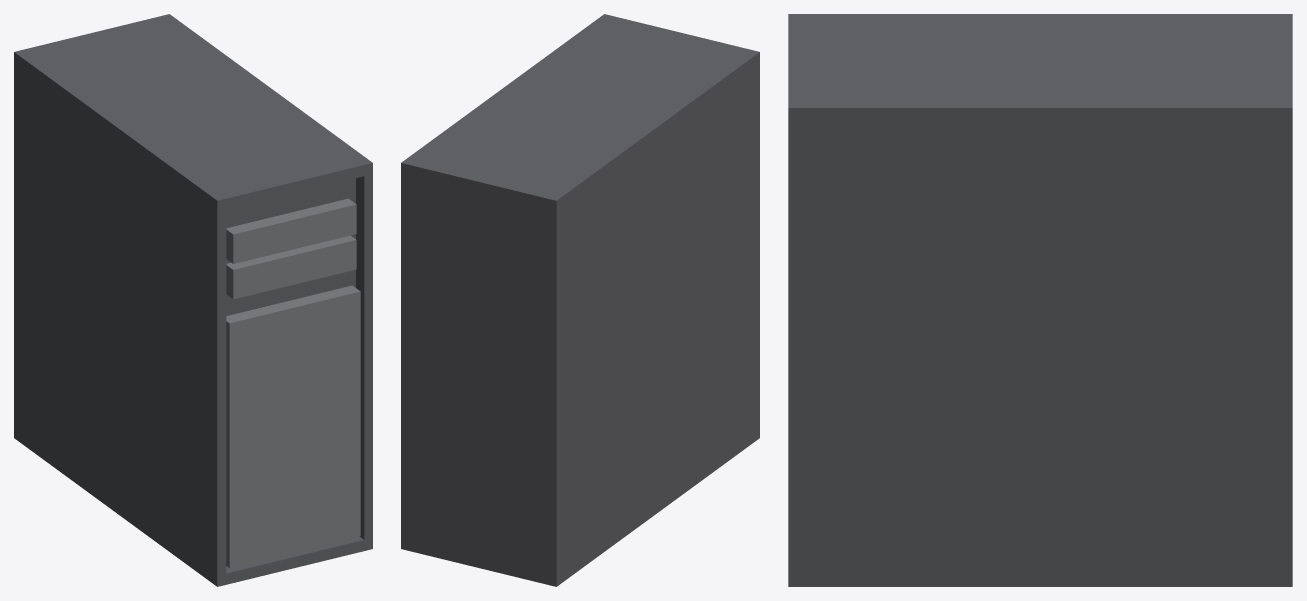
3 views of the same model, side by side, from view 1: azimuth 30°, elevation 25°; view 2: azimuth 150°, elevation 25°; view 3: azimuth 270°, elevation 25° (orthographic). The views are drawn at different scales.
Visible parts, largest first — view 1: PC; view 2: PC; view 3: PC.
Boxes of the visible parts, x1=… form: PC: x1=14, y1=14, x2=372, y2=586; PC: x1=401, y1=14, x2=759, y2=586; PC: x1=788, y1=14, x2=1292, y2=586.
Bounding box in the file's own units: 24.49 × 58.09 × 55.47.
